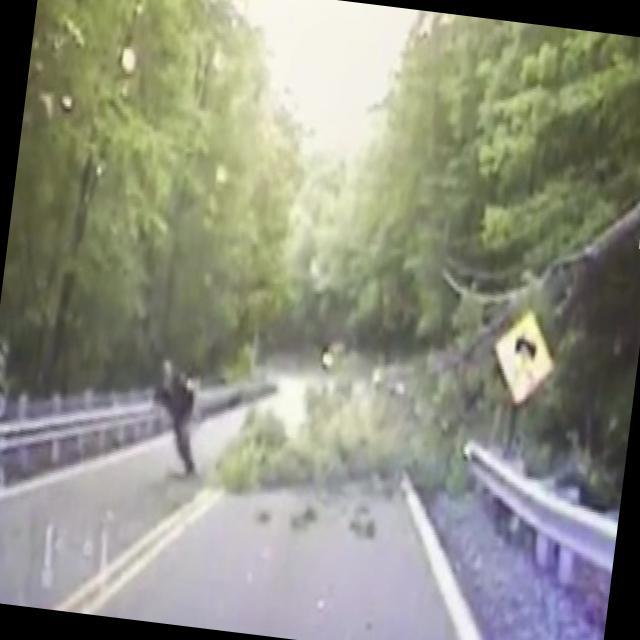fallen_object: (241, 127, 640, 566)
